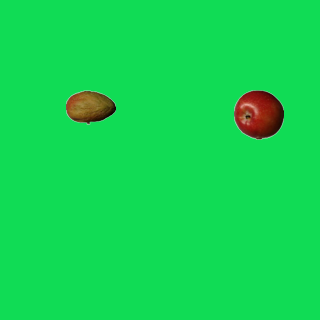Apple Braeburn: (233, 89, 283, 139)
Papaya: (65, 82, 115, 132)
